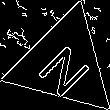N_NE: (31, 31, 96, 96)
